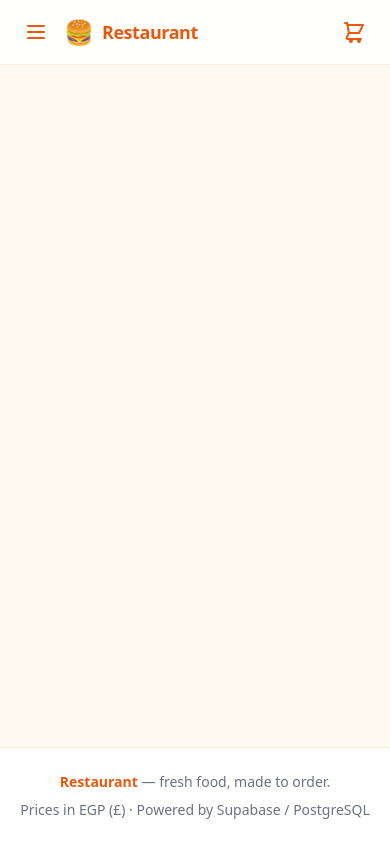
Test: role-aware navigation › hides Driver from a customer in desktop and mobile
Click the button named "Toggle navigation menu" at (36, 32), box [16,12,56,52]
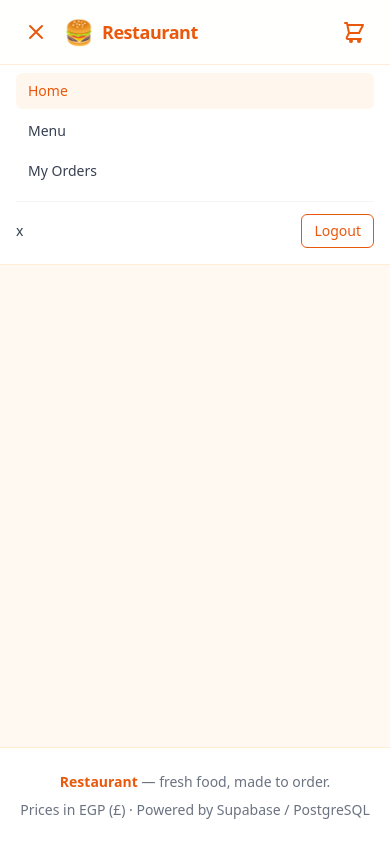
Check: the text "My Orders" is shown 2 times
